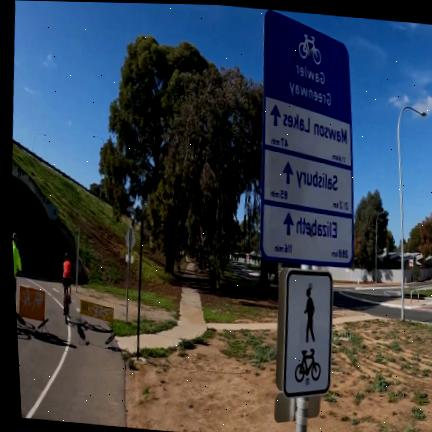Bike_Lane: (17, 274, 126, 427)
Bike_Sign: (259, 9, 354, 266), (276, 268, 332, 414)
